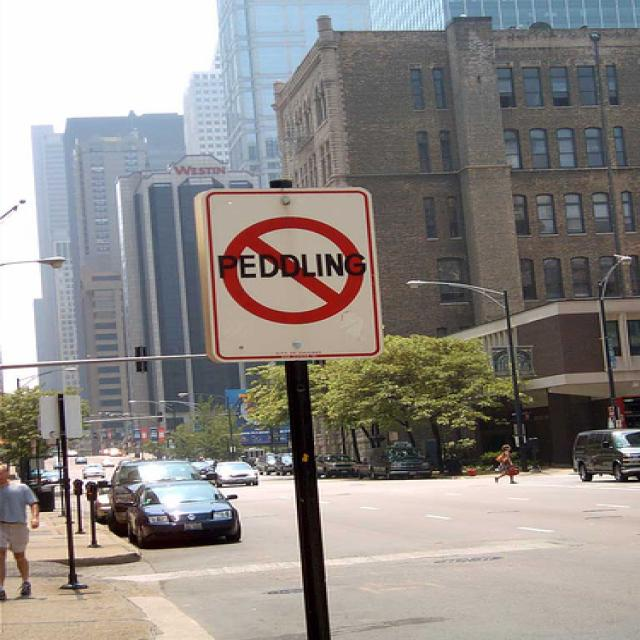Vehicle: (97, 460, 206, 535), (124, 480, 241, 549), (573, 429, 640, 482), (368, 444, 434, 478), (214, 462, 258, 487), (254, 451, 293, 476), (316, 452, 352, 478), (94, 490, 112, 526), (81, 463, 106, 479), (75, 456, 87, 465), (101, 460, 115, 467)
